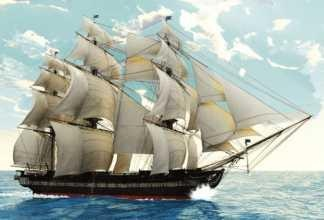fanchuan: (8, 11, 319, 196)
